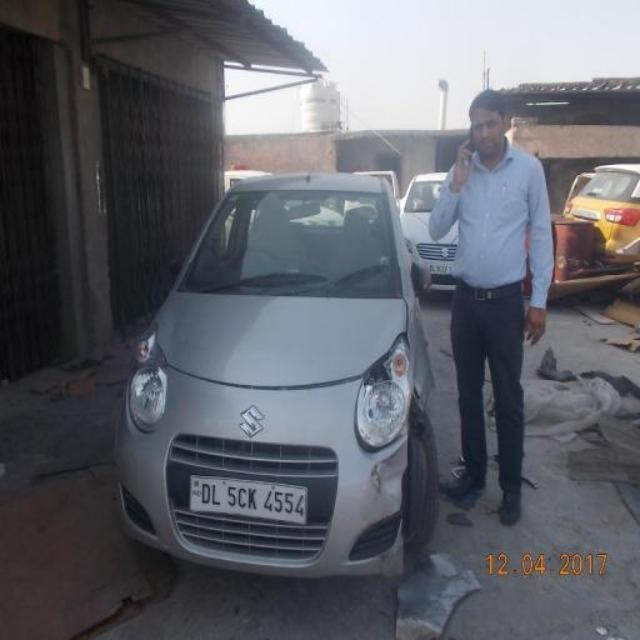crack: (367, 458, 386, 504)
dent: (380, 432, 408, 500)
dislocated part: (359, 335, 409, 391)
no part: (397, 389, 427, 579)
